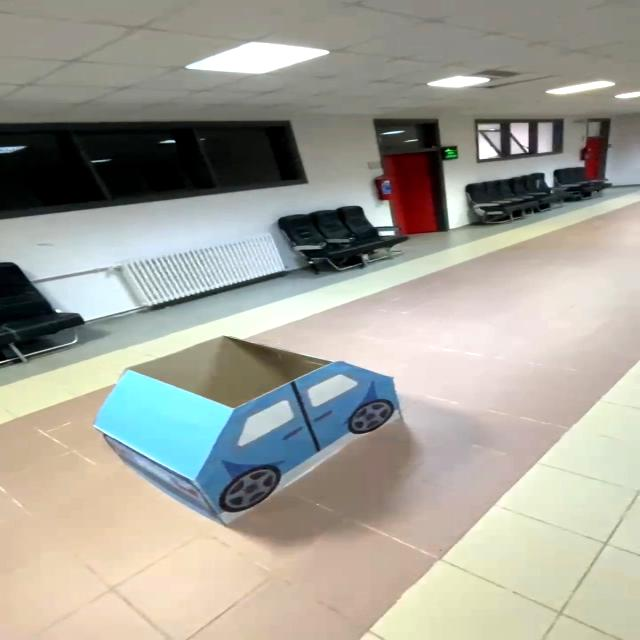blue_car: (67, 313, 446, 533)
